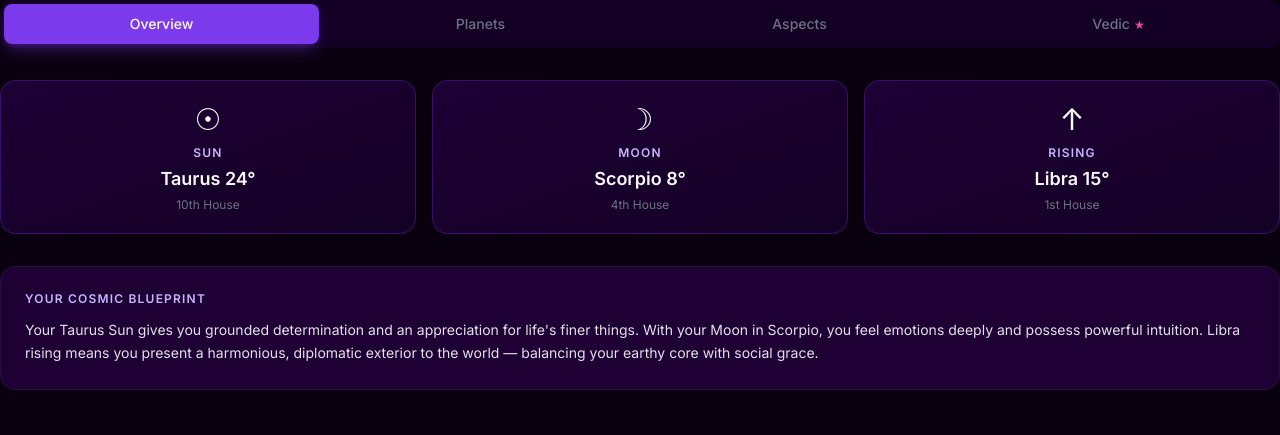
Test: ChartTabs › switches to Vedic tab and shows premium gate for free users
Click the tab "Vedic★".
click(1118, 24)  # box [961,4,1276,44]
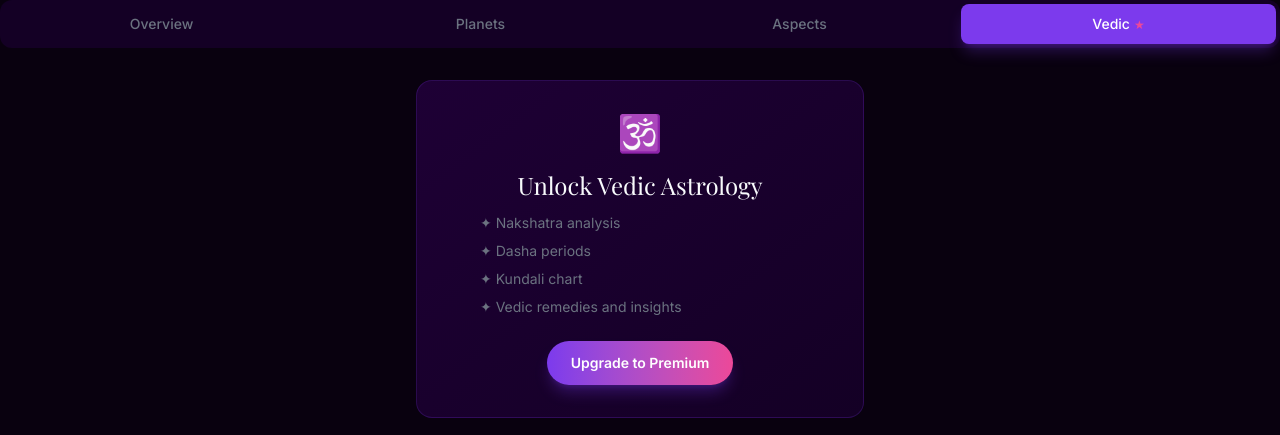
Check: the heading "Unlock Vedic Astrology" is shown, box [517,169,763,201]
